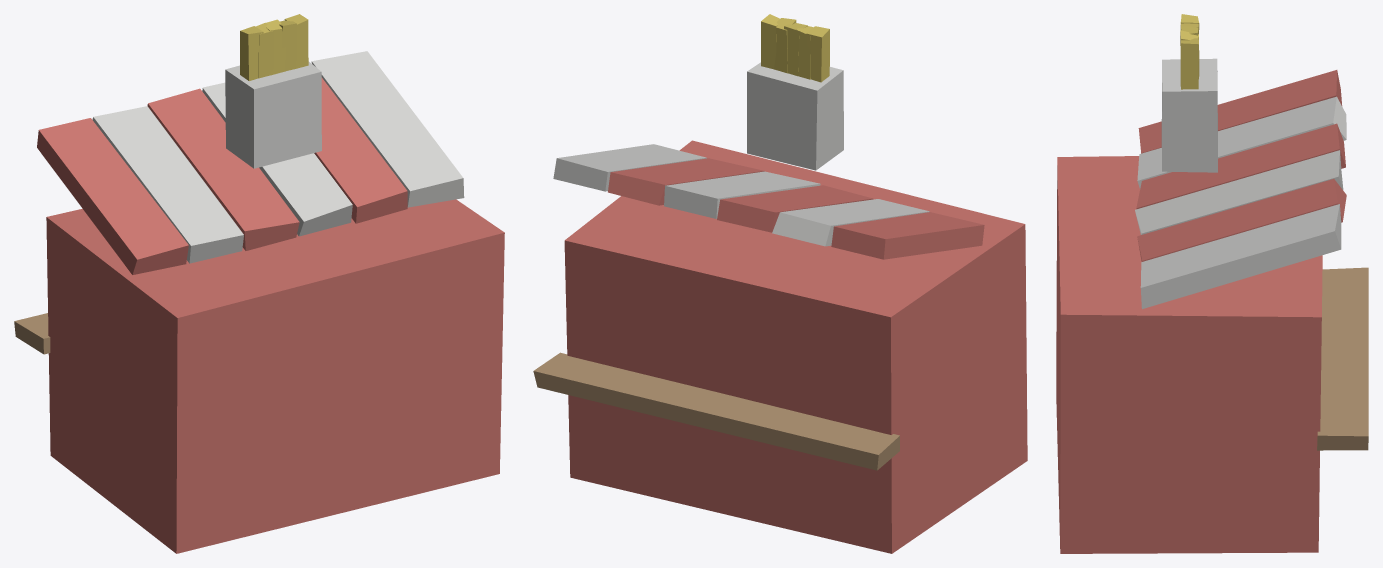
Rendered from friesstall.fbx.
3 renders of one model, left to right at view 1: azimuth 30°, elevation 25°; view 2: azimuth 150°, elevation 25°; view 3: azimuth 270°, elevation 25°, orthographic.
Parts seen in each view (by area): view 1: FriesStall; view 2: FriesStall; view 3: FriesStall.
Part boxes in pixels (bbox=[...]): FriesStall: bbox=[14, 14, 504, 553]; FriesStall: bbox=[533, 14, 1027, 553]; FriesStall: bbox=[1056, 14, 1368, 553].
Bounding box in the file's own units: 2.73 × 3.37 × 2.14.
